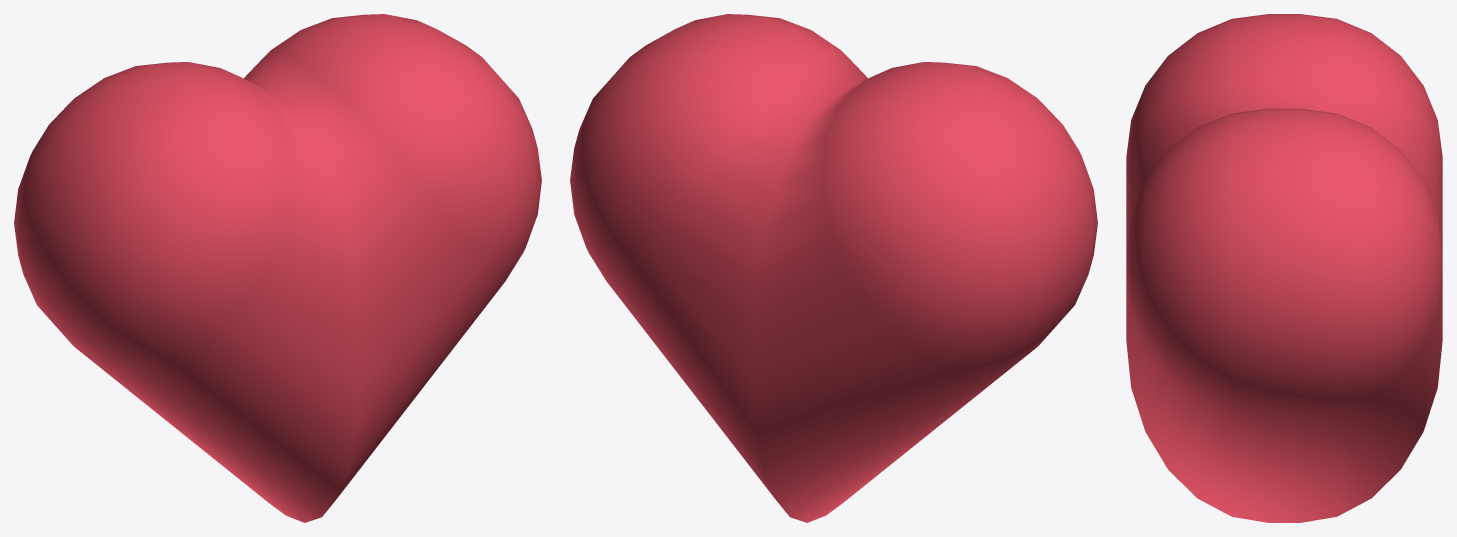
The model's file is stupid_beating_heart.fbx.
The picture shows the model from 3 angles, left to right: view 1: azimuth 30°, elevation 25°; view 2: azimuth 150°, elevation 25°; view 3: azimuth 270°, elevation 25°; orthographic projection.
Parts seen in each view (by area): view 1: AntiHeartCUbe; view 2: AntiHeartCUbe; view 3: AntiHeartCUbe.
Part boxes in pixels (bbox=[...]): AntiHeartCUbe: bbox=[14, 14, 541, 522]; AntiHeartCUbe: bbox=[570, 14, 1097, 522]; AntiHeartCUbe: bbox=[1126, 14, 1442, 522].
Bounding box in the file's own units: 341 × 312 × 200.
